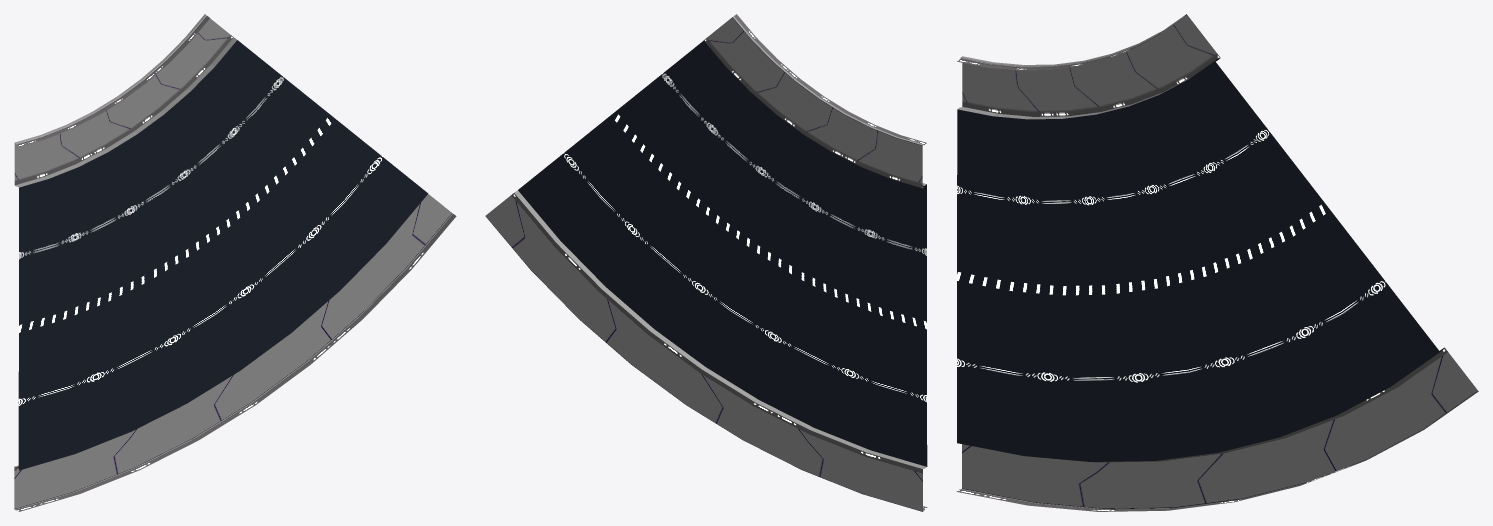
Rendered from SM_L_Road45 1.fbx.
3 views of the same model, side by side, from view 1: azimuth 30°, elevation 25°; view 2: azimuth 150°, elevation 25°; view 3: azimuth 330°, elevation 25° (orthographic). The views are drawn at different scales.
Visible parts, largest first — view 1: SM_L_Road45; view 2: SM_L_Road45; view 3: SM_L_Road45.
Part boxes in pixels (x1,y1,x2,y2): SM_L_Road45: (14,14,456,511); SM_L_Road45: (485,14,927,511); SM_L_Road45: (956,14,1478,511).
Bounding box in the file's own units: 6154 × 119 × 6027.
